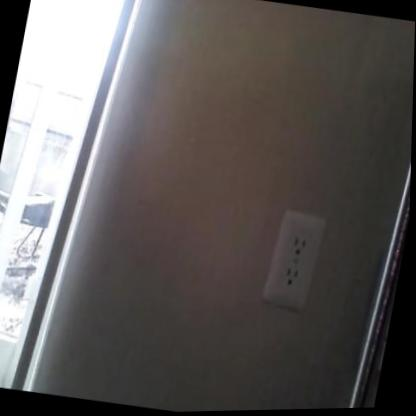OUTLET: (259, 207, 329, 313)
